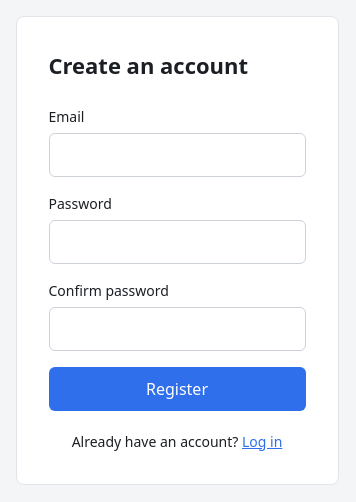
Test: register page › goes to the login page after registering
Step 1. Type "Jane@Example.com" into the field labelled "Email" → point(177, 154), box [48,132,306,176]
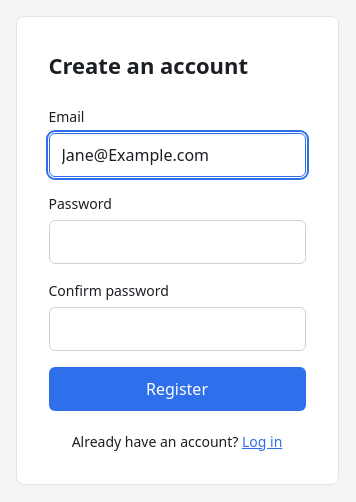
Step 2. Type "secret123" into the password field labelled "Password" → point(177, 242), box [48,220,306,264]
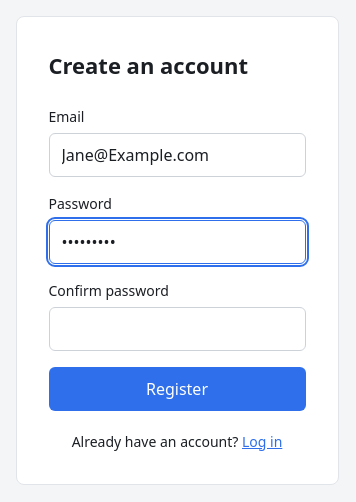
Step 3. Type "secret123" into the password field labelled "Confirm password" → point(177, 328), box [48,306,306,350]
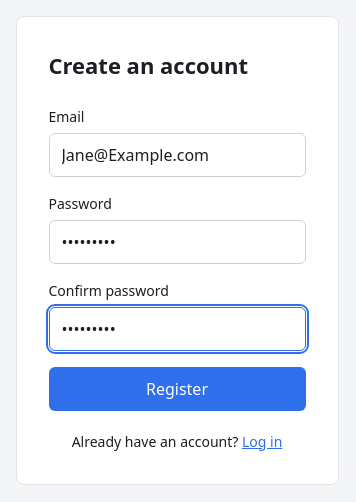
Step 4. Click the button "Register" → point(177, 388), box [48,366,306,410]
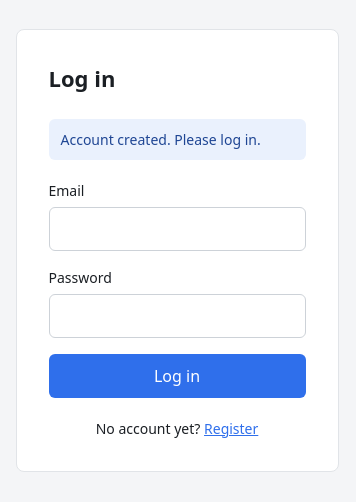
Check: the text "Account created. Please log in." is shown, box [48,118,306,160]
